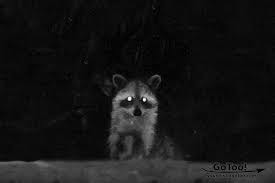raccoon: (80, 62, 187, 169)
